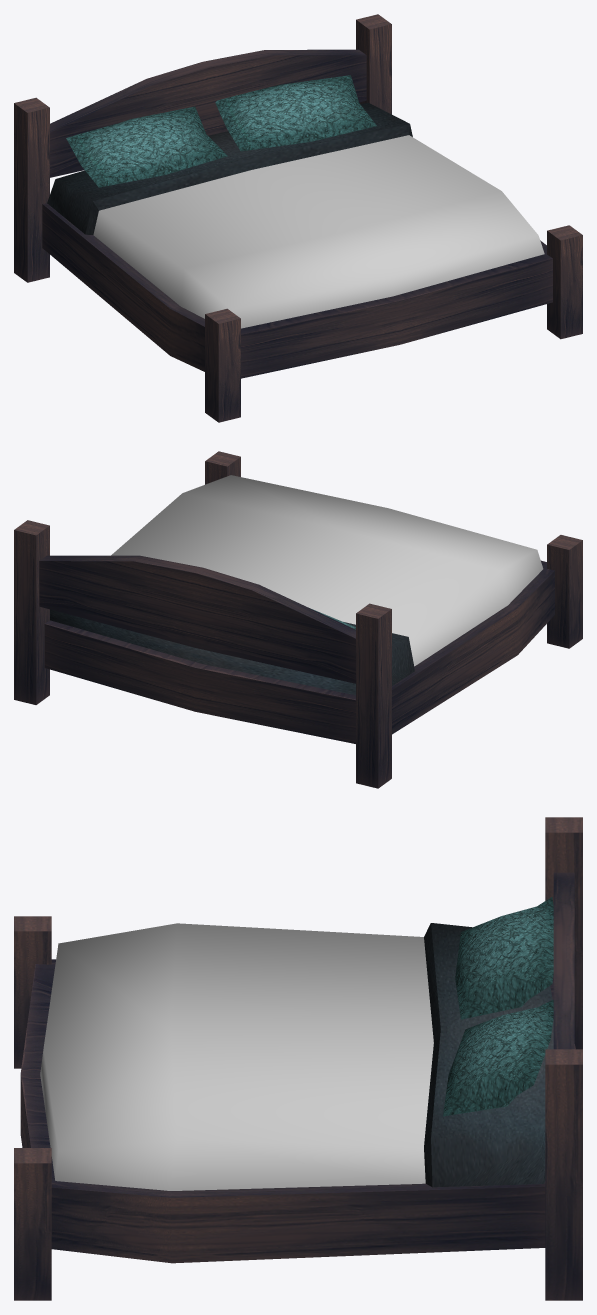
File: Bed_Double_D.fbx
3 views of the same model, one above another, from view 1: azimuth 30°, elevation 25°; view 2: azimuth 150°, elevation 25°; view 3: azimuth 270°, elevation 25° (orthographic). The views are drawn at different scales.
Parts seen in each view (by area): view 1: Bed_Double_D; view 2: Bed_Double_D; view 3: Bed_Double_D.
Boxes of the visible parts, <box> form: Bed_Double_D: <box>14,14,582,422</box>; Bed_Double_D: <box>14,451,582,788</box>; Bed_Double_D: <box>14,817,582,1300</box>.
Size of the model in its own units: 0.5322 by 0.2371 by 0.5181.
